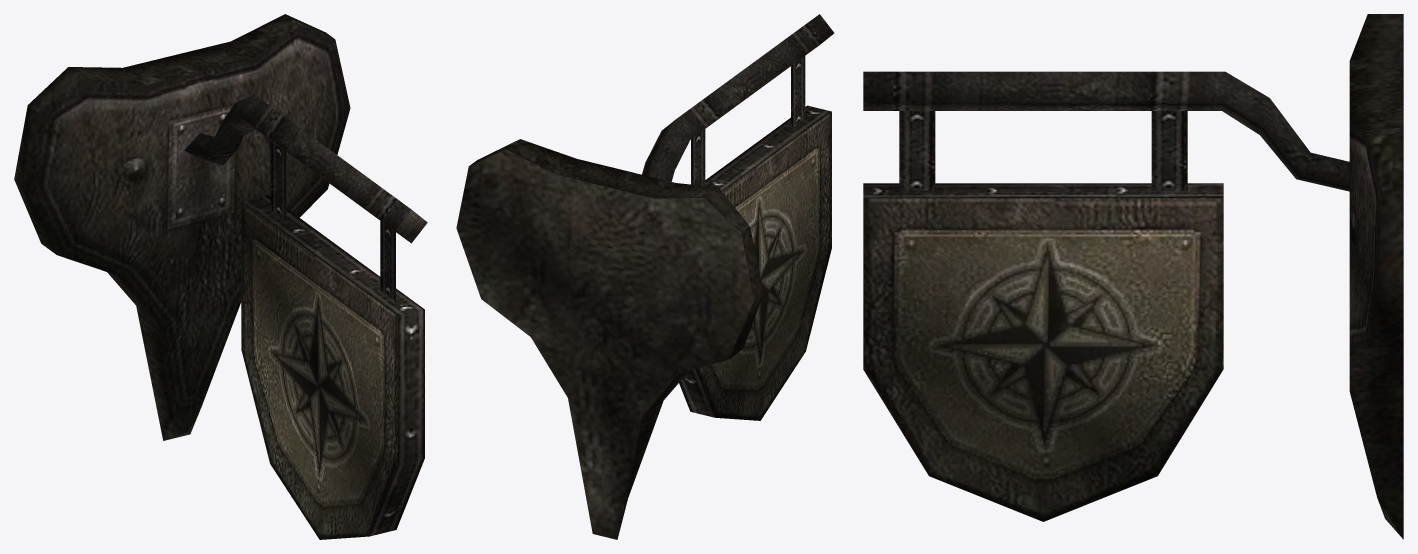
The model's file is KM_SIGN_14.glb.
3 renders of one model, left to right at view 1: azimuth 30°, elevation 25°; view 2: azimuth 150°, elevation 25°; view 3: azimuth 270°, elevation 25°, orthographic. The views are drawn at different scales.
Parts seen in each view (by area): view 1: Mesh; view 2: Mesh; view 3: Mesh.
Boxes of the visible parts, <box> form: Mesh: <box>14,14,427,539</box>; Mesh: <box>456,14,834,539</box>; Mesh: <box>863,14,1403,539</box>.
Size of the model in its own units: 0.96 by 1.13 by 1.2.
Materials: 1 (1 with a texture image).
